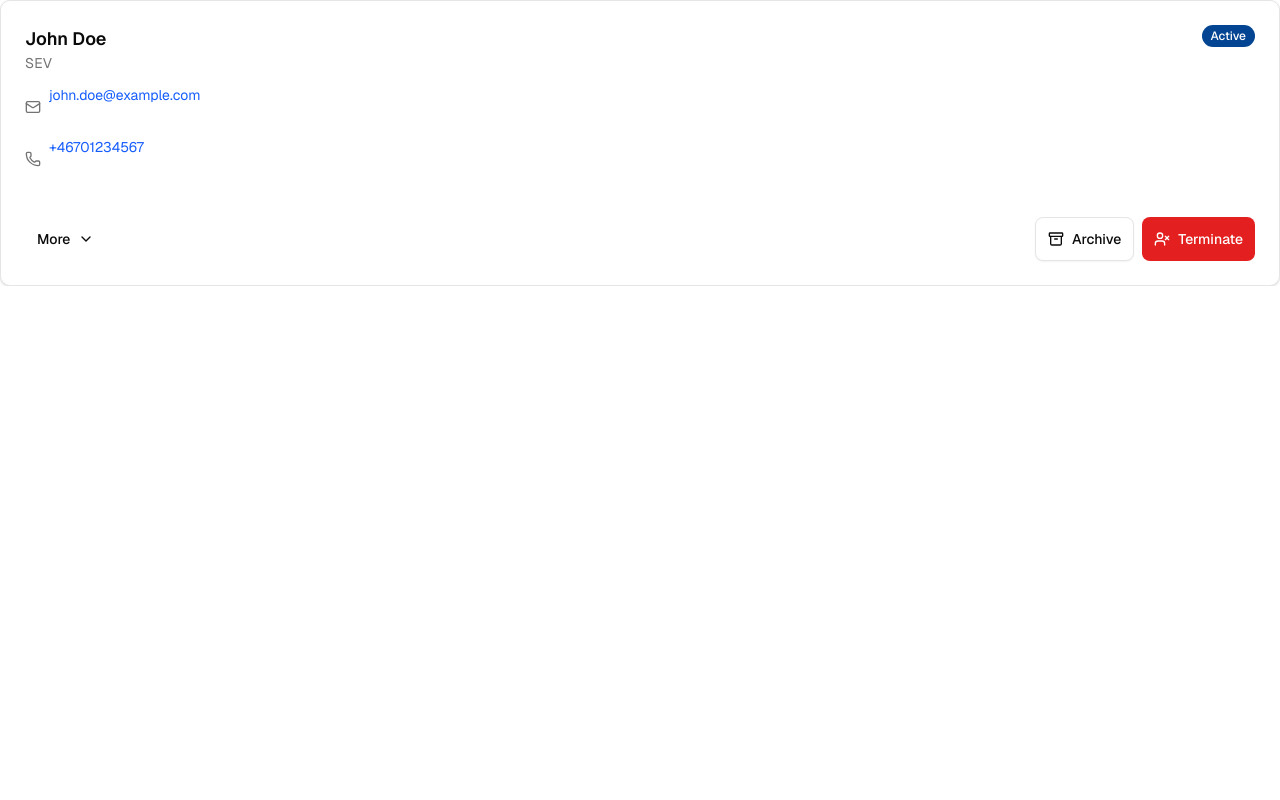
EmployeeCard - Field Visibility and Permissions › AC2: Field Visibility and Permissions Tests › should display all masterdata fields for HR Admin
Click the button with aria-label "Expand details": (66, 239) [25,217,106,261]
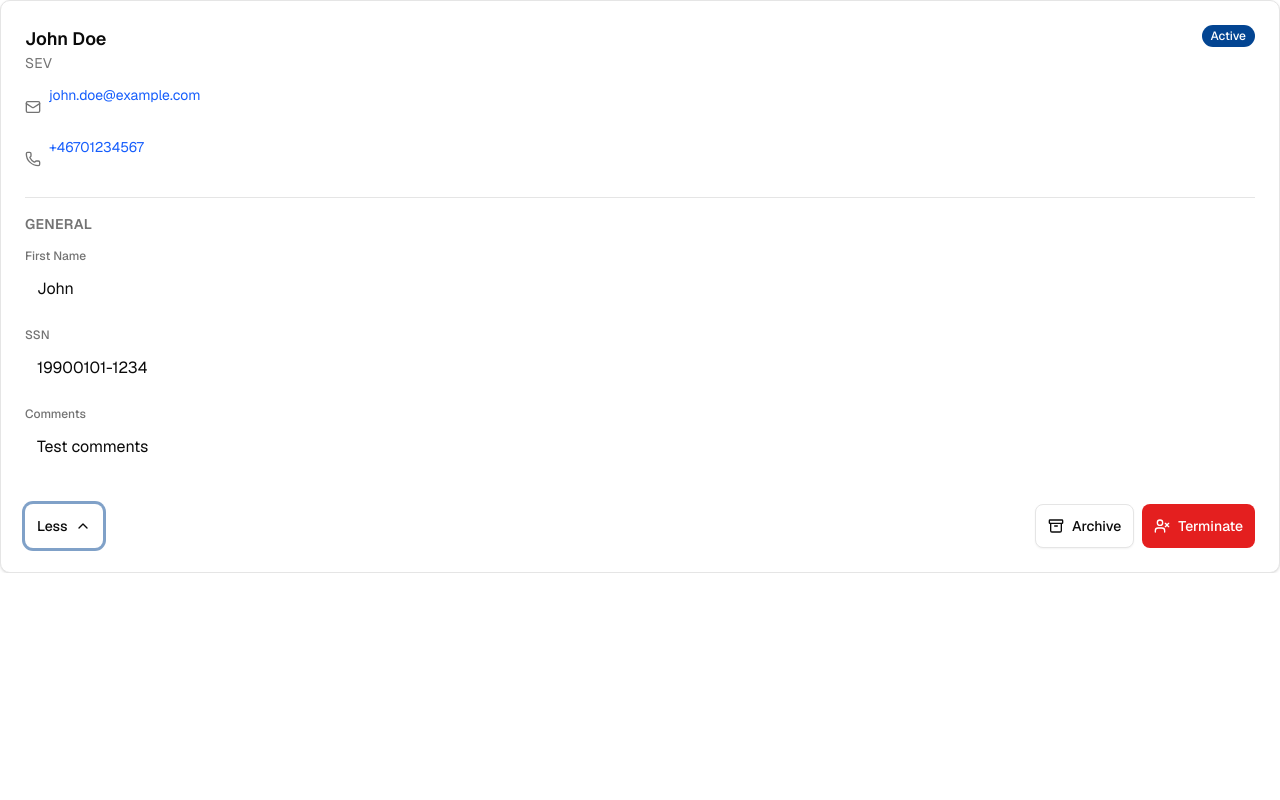
Expected: the text "First Name" is shown, [25,248,86,264]
Expected: the text "SSN" is shown, [25,327,50,343]
Expected: the text "Comments" is shown, [25,406,86,422]
